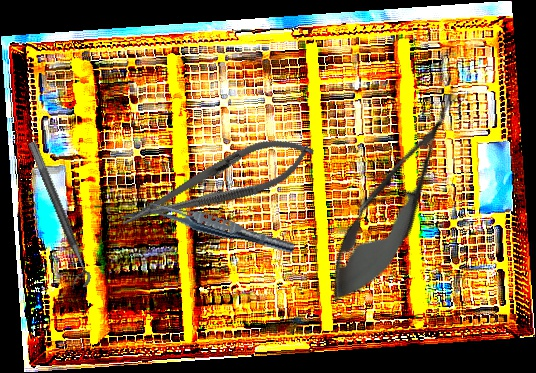Fixation Ring: (15, 140, 95, 292)
Micro Scissor: (312, 80, 480, 318)
Needle Holder: (112, 123, 321, 244)
Tissue Forceps: (137, 195, 298, 258)
